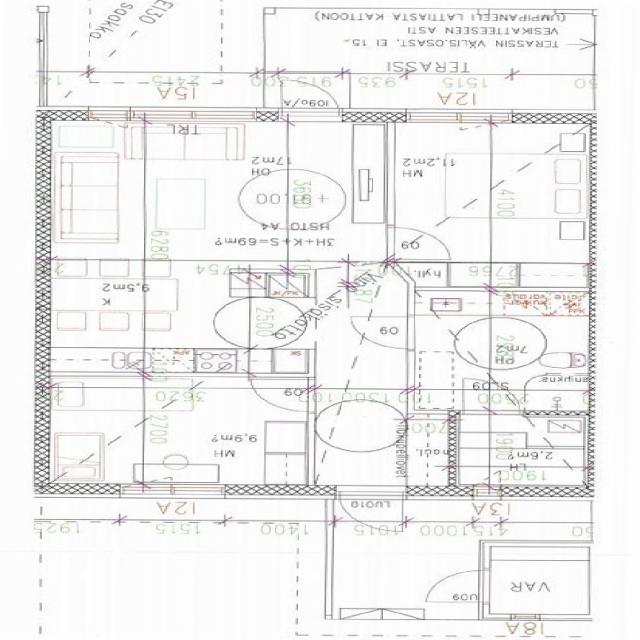door: (339, 485, 403, 536), (282, 76, 338, 122), (464, 378, 520, 417), (424, 569, 490, 601), (251, 379, 316, 411), (350, 317, 414, 348), (387, 227, 450, 258)
